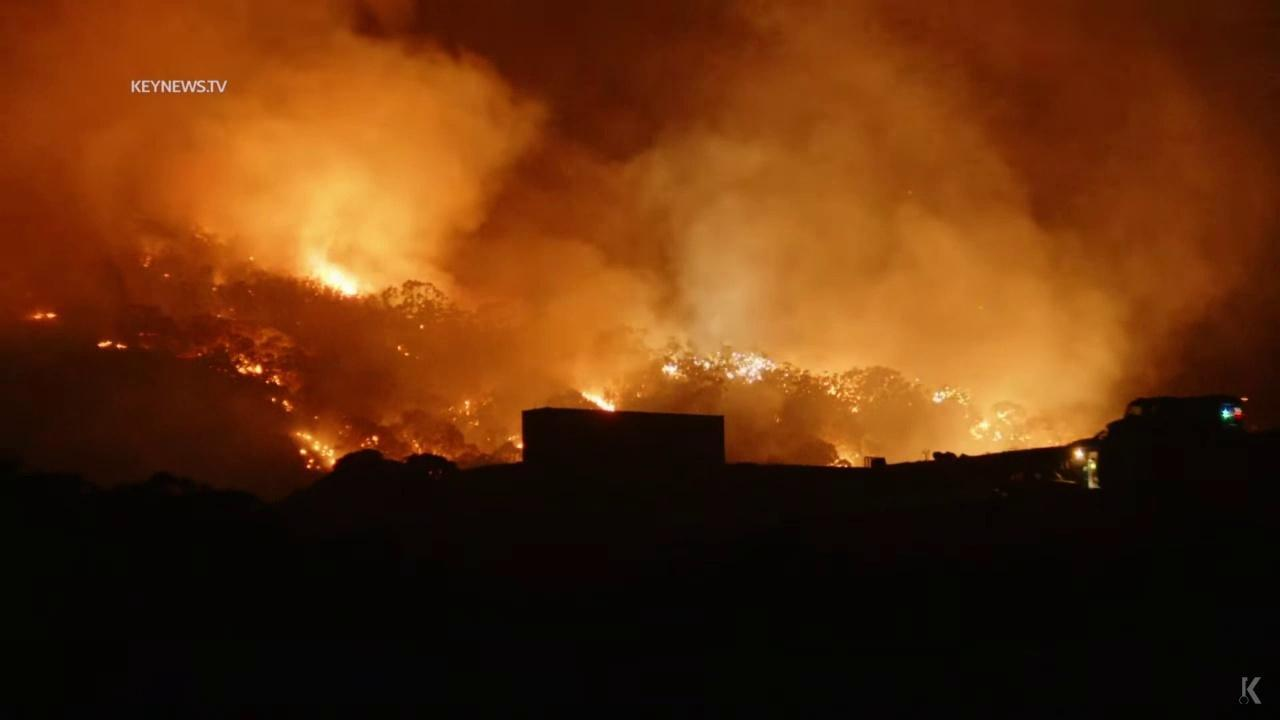fire: (654, 348, 780, 388), (307, 257, 365, 300), (287, 425, 338, 473), (578, 386, 618, 414), (966, 417, 1005, 443), (932, 385, 972, 407), (228, 351, 263, 375), (93, 339, 130, 352), (995, 407, 1016, 427), (507, 431, 524, 451), (30, 310, 58, 321), (279, 398, 295, 414), (463, 397, 475, 418)
smoke: (0, 0, 1280, 513)
